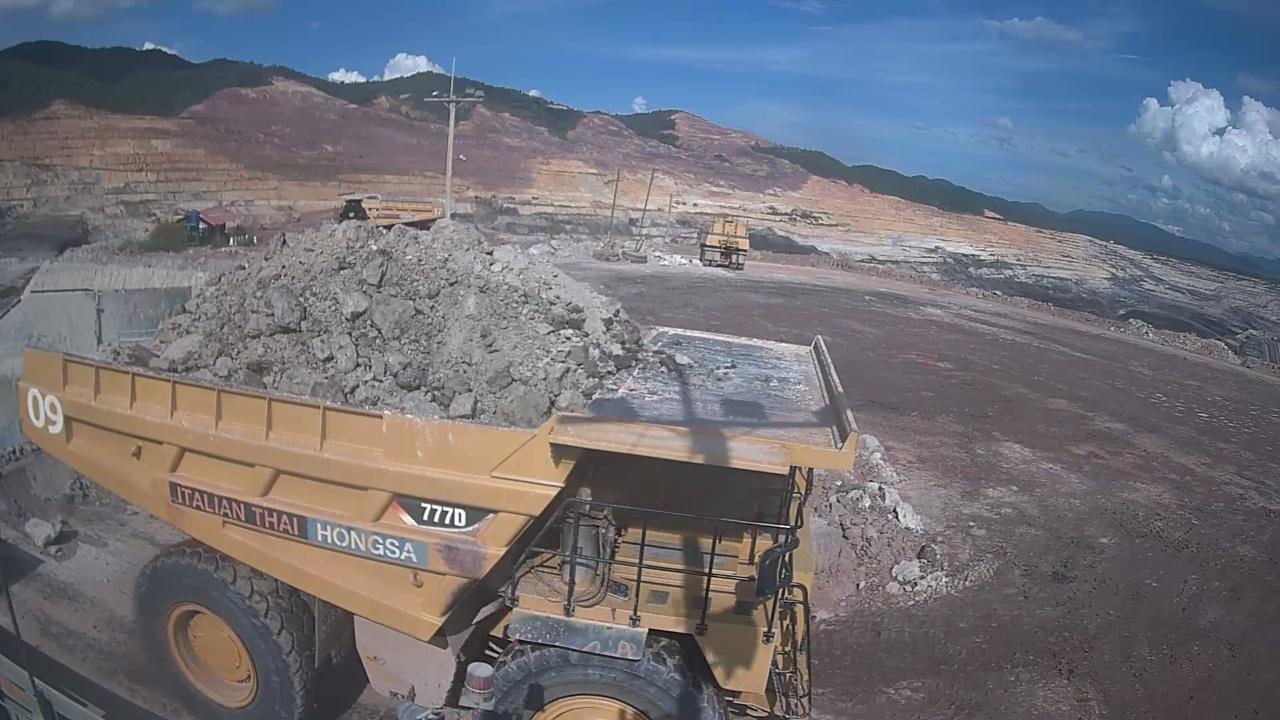company: (164, 483, 426, 571)
full_load: (193, 231, 656, 440)
mining_truck: (11, 225, 860, 718), (337, 182, 449, 229)
tail_number: (26, 388, 70, 436)
truck_size: (391, 484, 490, 537)
